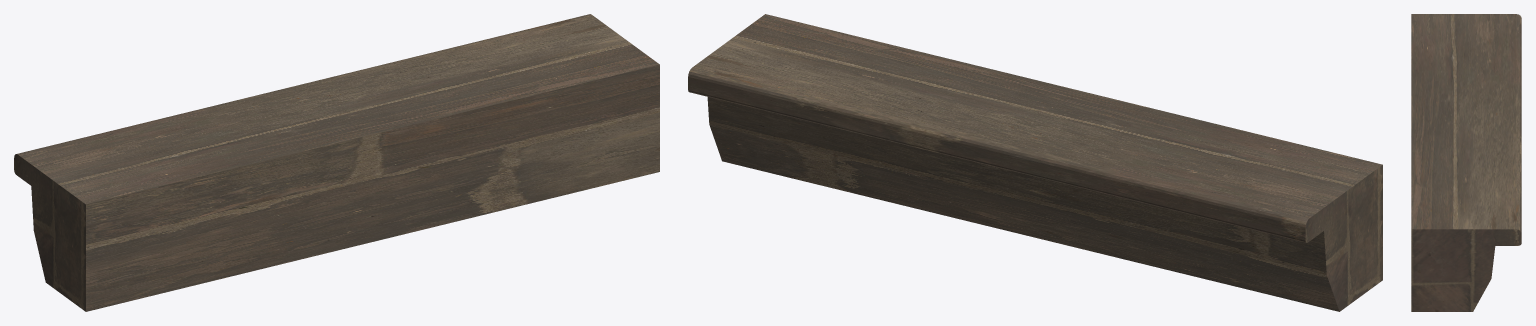
The model's file is stone_bench_bottom.fbx.
3 views of the same model, side by side, from view 1: azimuth 30°, elevation 25°; view 2: azimuth 150°, elevation 25°; view 3: azimuth 270°, elevation 25° (orthographic). The views are drawn at different scales.
Visible parts, largest first — view 1: Cube; view 2: Cube; view 3: Cube.
Part boxes in pixels (<box>): Cube: <box>14,14,659,311</box>; Cube: <box>688,14,1382,311</box>; Cube: <box>1411,14,1521,311</box>.
Size of the model in its own units: 402 by 72 by 87.19.
1 material, 1 textured.
